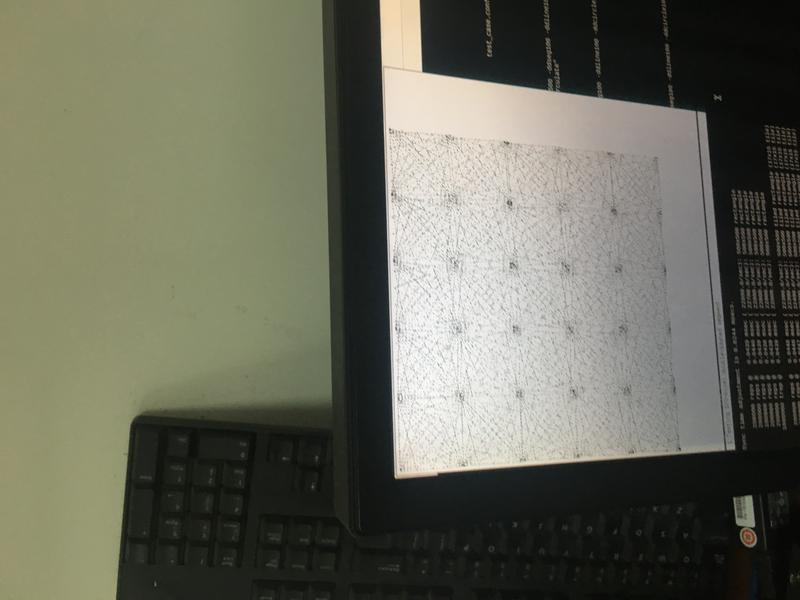xrandr_pass: (349, 54, 742, 478)
